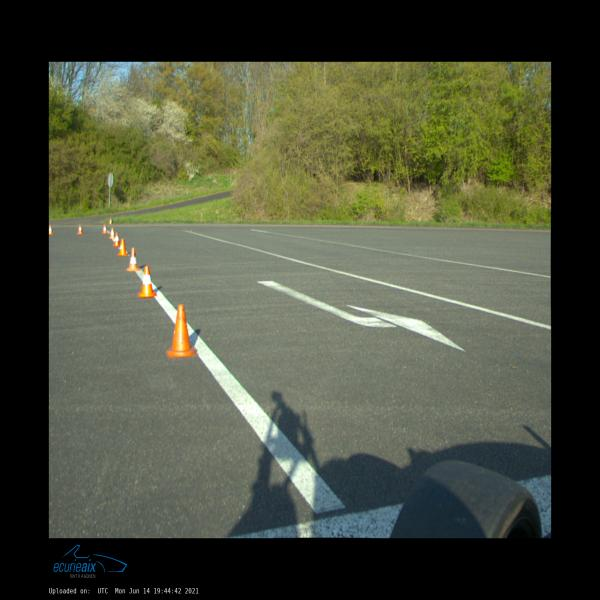orange_cone: (166, 304, 198, 358), (139, 266, 157, 298), (126, 248, 140, 272), (118, 239, 128, 256), (113, 233, 120, 247), (109, 228, 115, 238), (102, 224, 108, 234), (77, 225, 83, 234), (49, 225, 53, 235), (109, 218, 112, 224)
